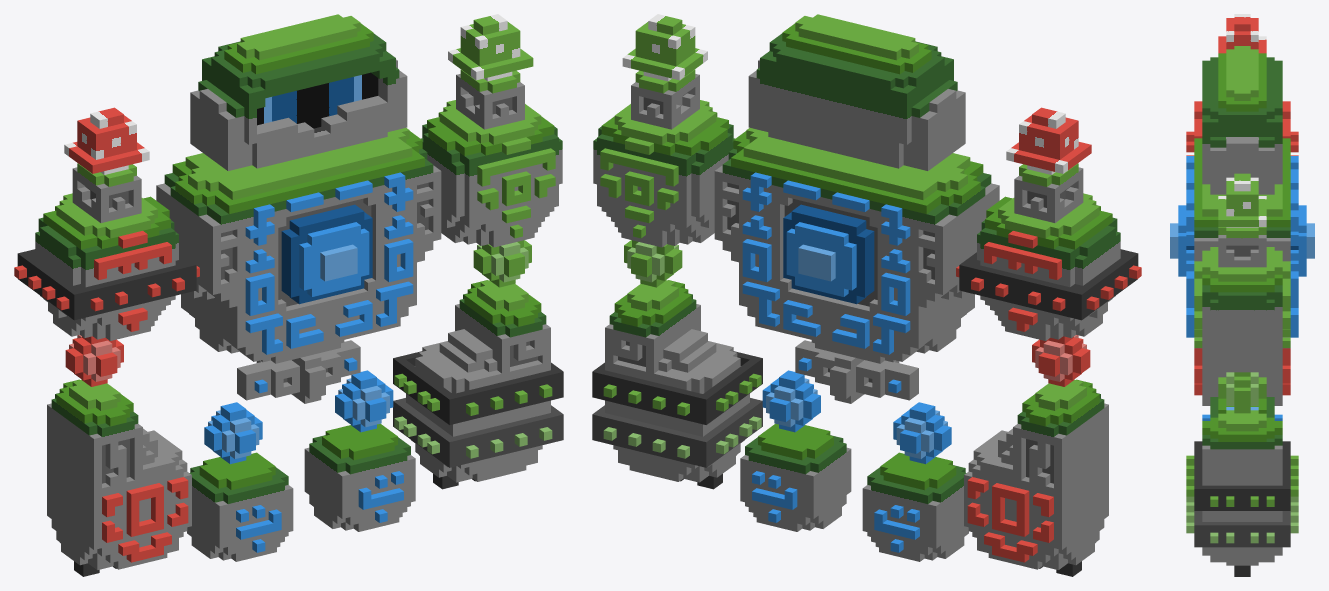
The model's file is stone_golem_boss.gltf.
3 renders of one model, left to right at view 1: azimuth 30°, elevation 25°; view 2: azimuth 150°, elevation 25°; view 3: azimuth 270°, elevation 25°, orthographic. The views are drawn at different scales.
Visible parts, largest first — view 1: stone_golem_boss-Mesh; view 2: stone_golem_boss-Mesh; view 3: stone_golem_boss-Mesh.
Part boxes in pixels (x1,y1,x2,y2): stone_golem_boss-Mesh: (14,14,563,576); stone_golem_boss-Mesh: (592,14,1141,576); stone_golem_boss-Mesh: (1170,14,1314,576).
Size of the model in its own units: 62 by 58 by 18.
1 material, 1 textured.
